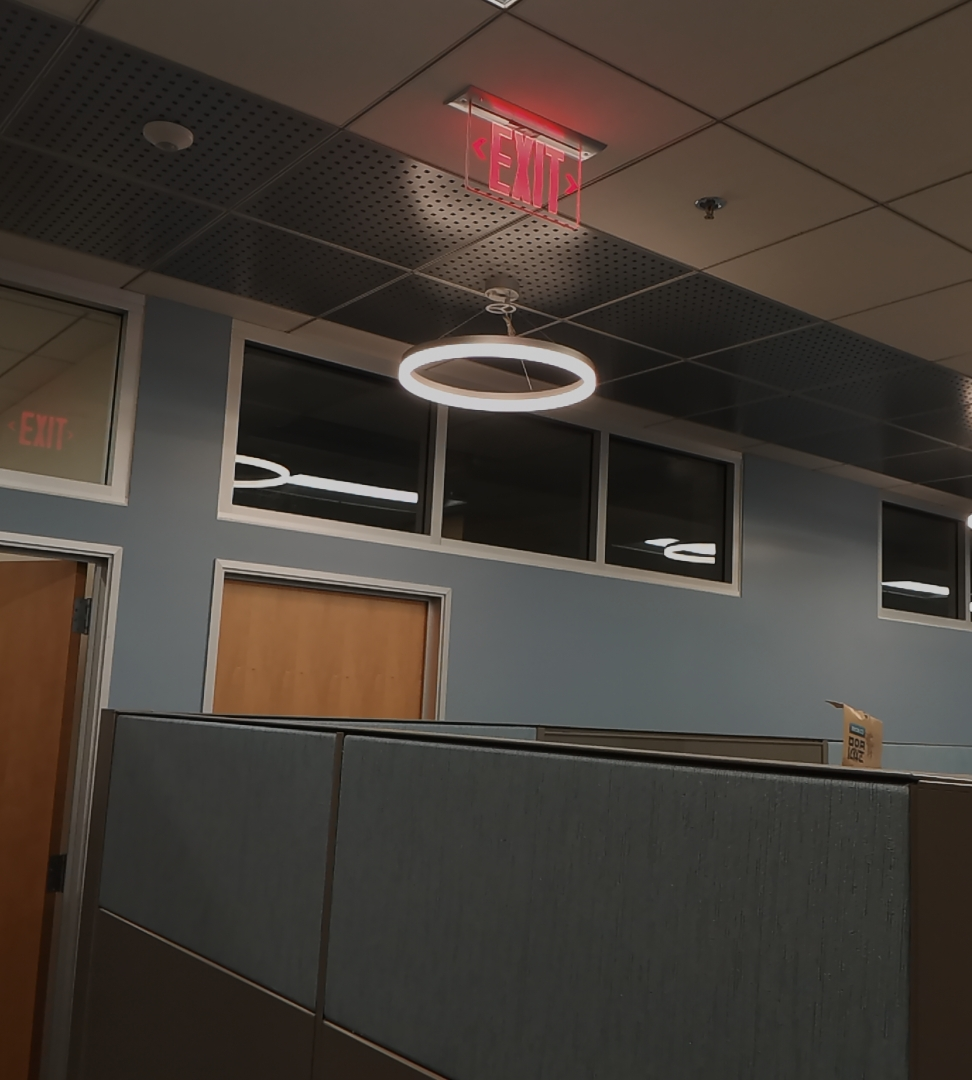emergency_exit: (453, 91, 598, 233), (839, 703, 884, 770)
